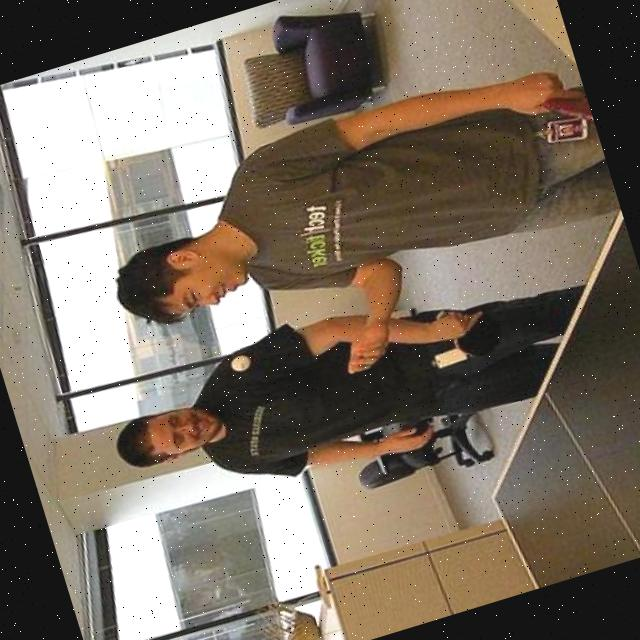ping-pong-ball: (228, 352, 254, 372)
